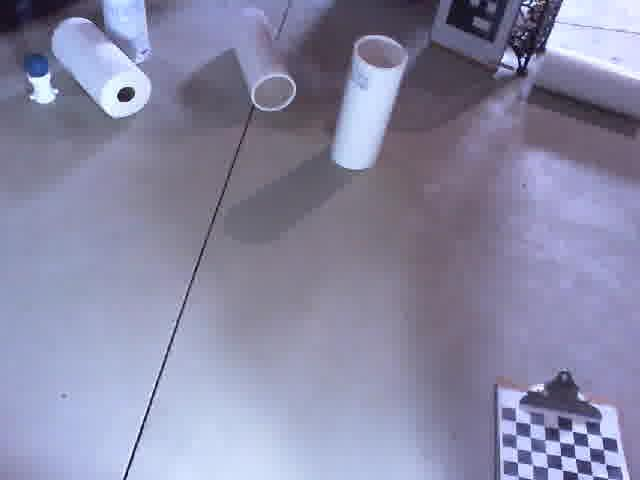coral: (324, 29, 415, 176), (220, 0, 301, 119), (89, 0, 158, 67)
